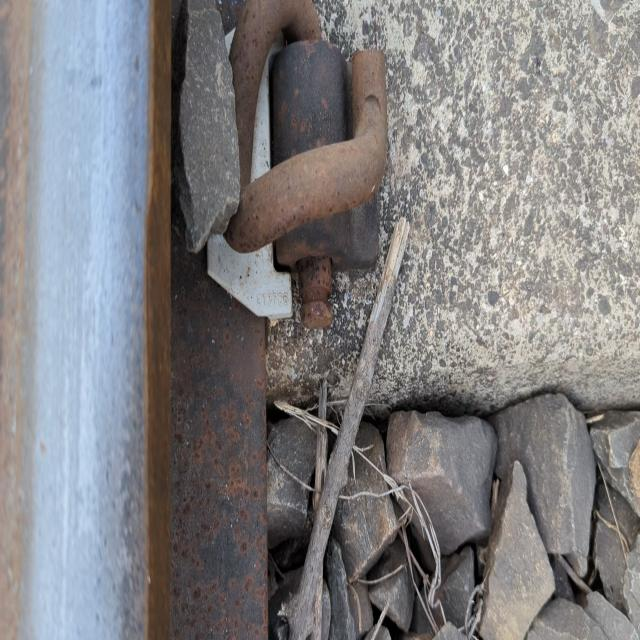overrailed: (215, 0, 439, 341)
